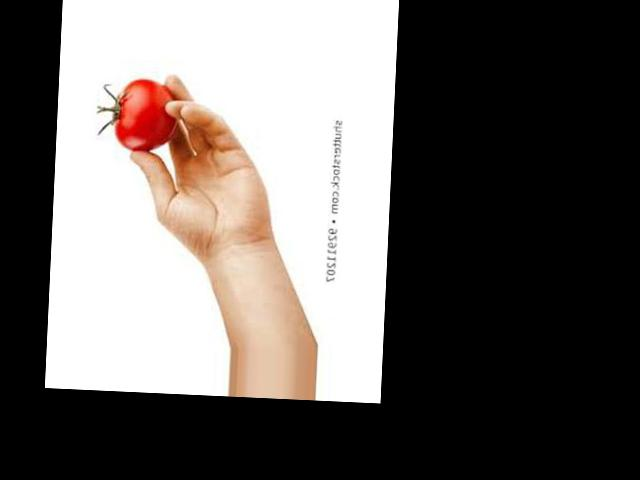tomato: (113, 77, 179, 154)
